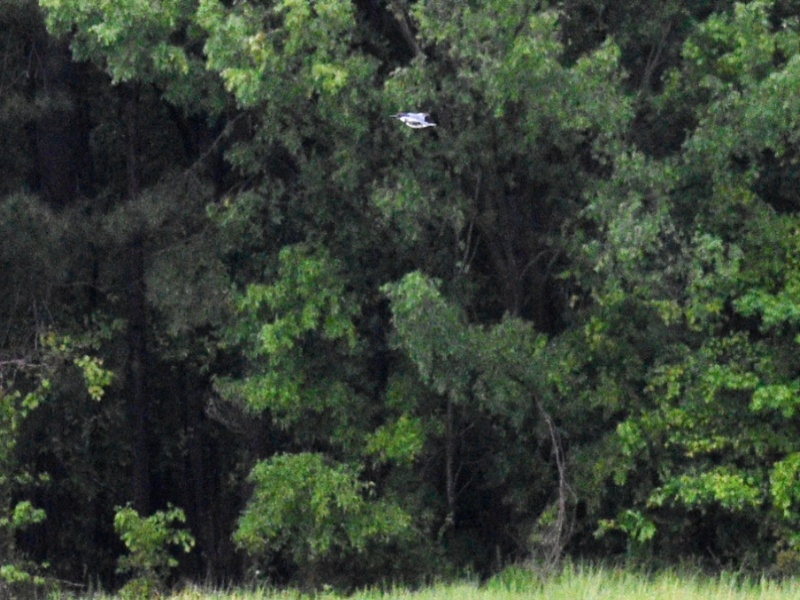kingfisher: (388, 106, 436, 128)
